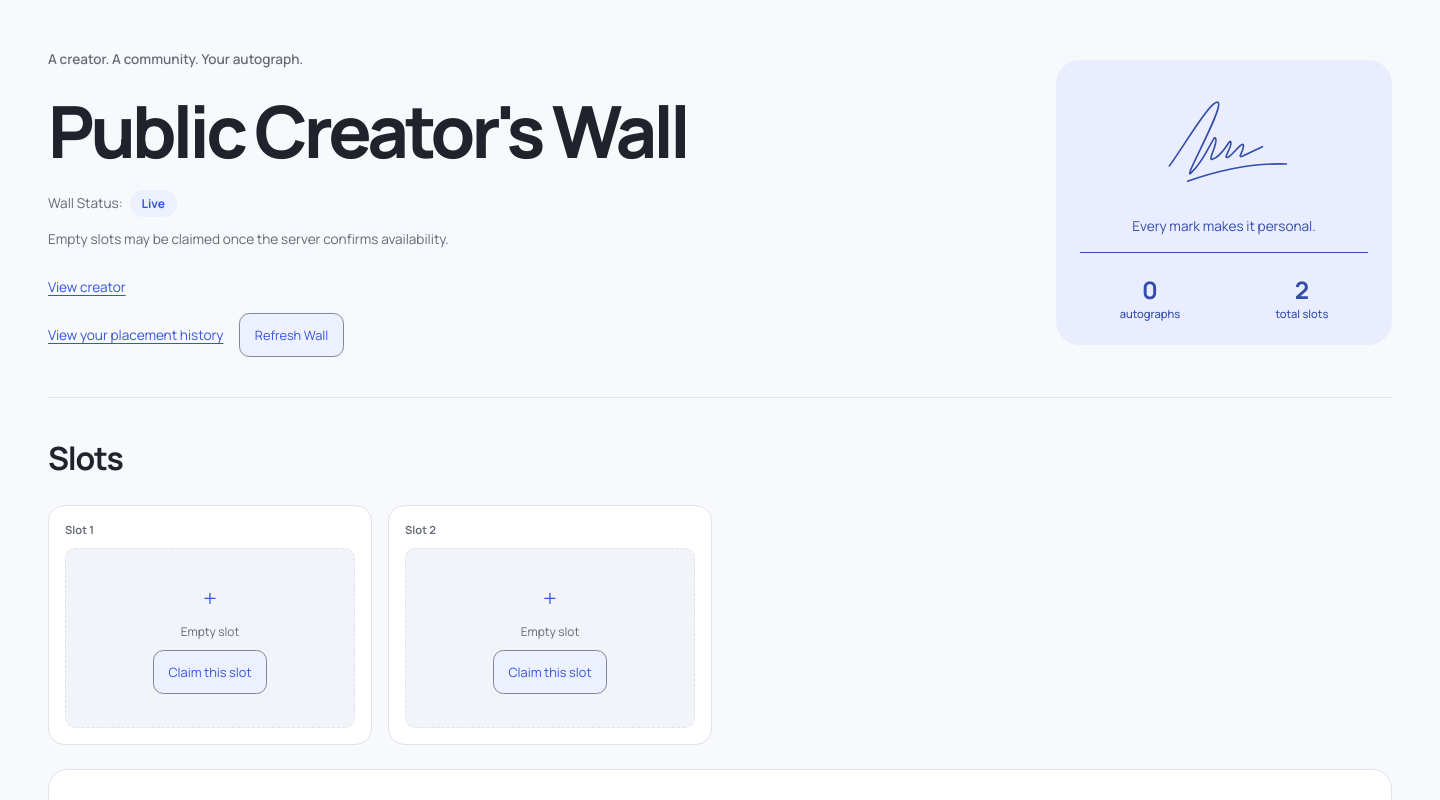
explains AUTOGRAPH_NOT_FOUND without sending another claim
Click the 1st button "Claim this slot".
click(210, 672)  # box [153,650,267,694]
(page scrolled)
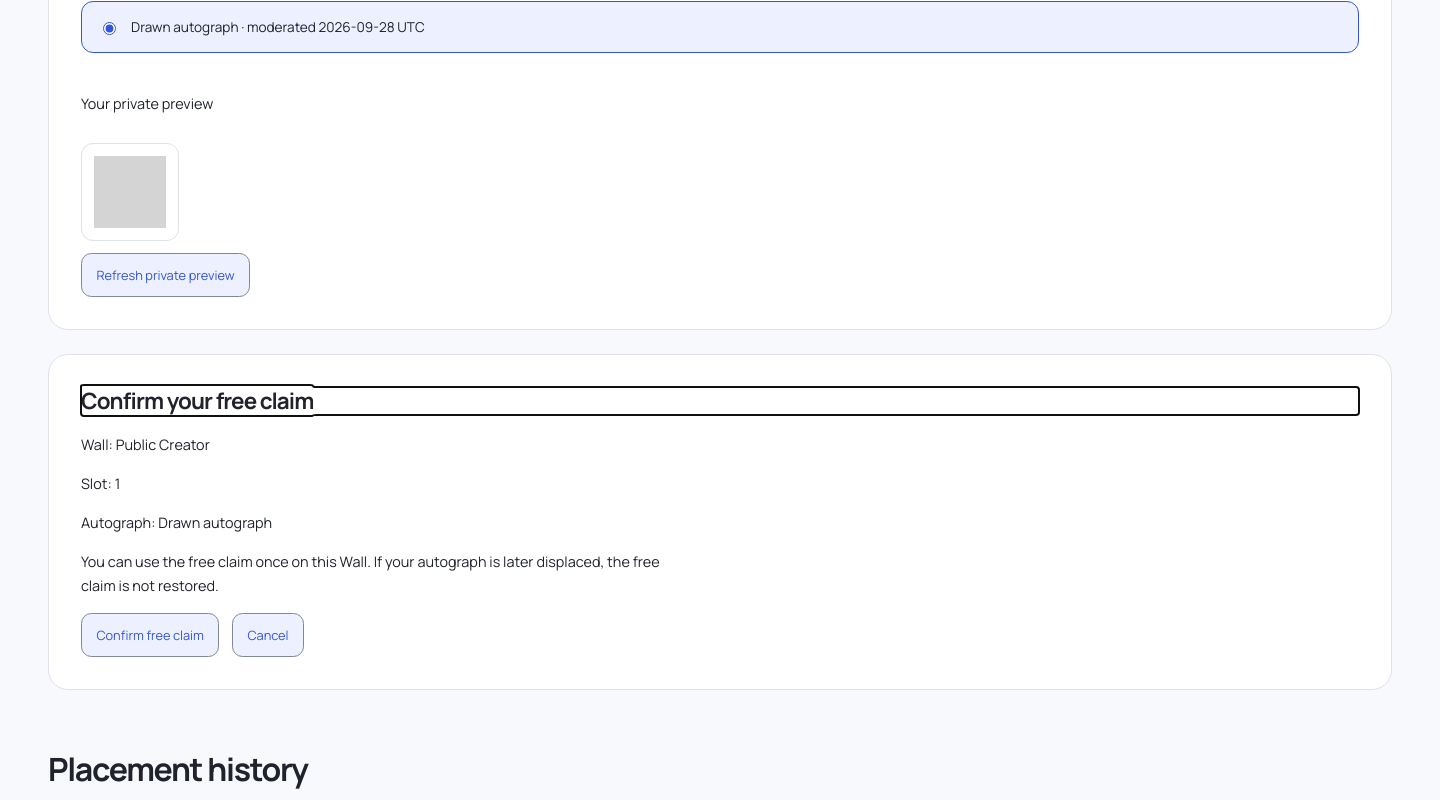
Click the button "Confirm free claim".
click(150, 635)  # box [81,613,219,657]
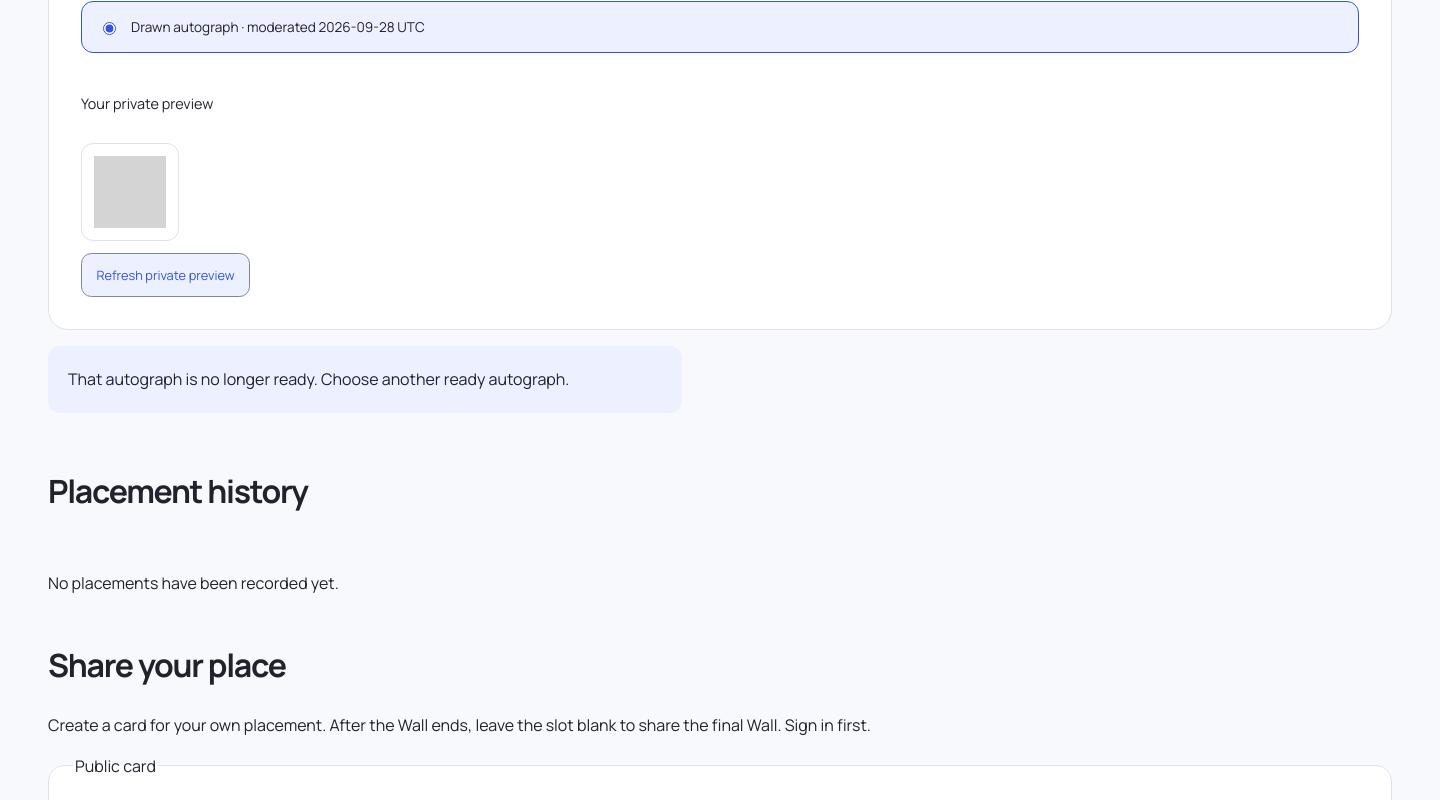
Check: the text "That autograph is no longer ready. Choose another ready autograph." is shown, box [48,346,682,413]
